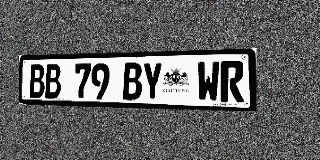7: (74, 63, 91, 99)
9: (92, 63, 109, 99)
B: (123, 62, 142, 100), (45, 64, 61, 98), (29, 64, 44, 98)
R: (220, 60, 244, 102)
W: (197, 61, 220, 102)
Y: (142, 62, 162, 101)
